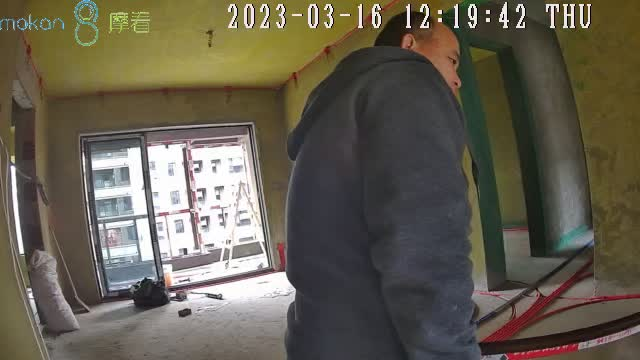people: (284, 9, 477, 360)
window: (80, 125, 273, 293)
